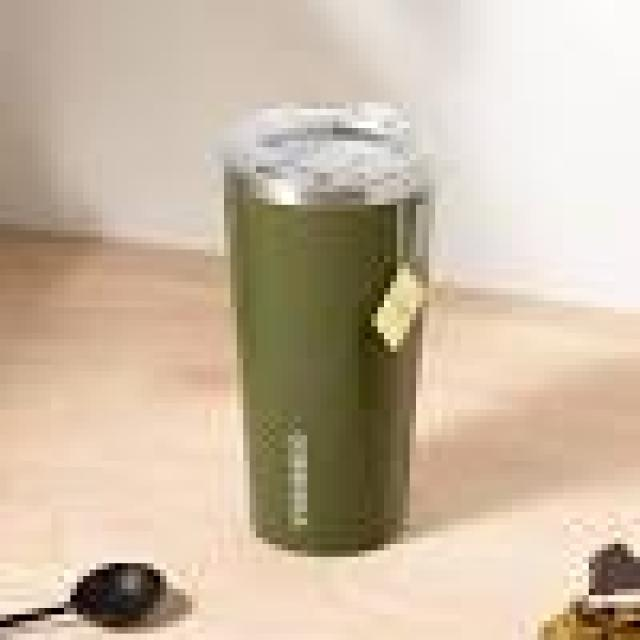bottle: (215, 100, 435, 558)
